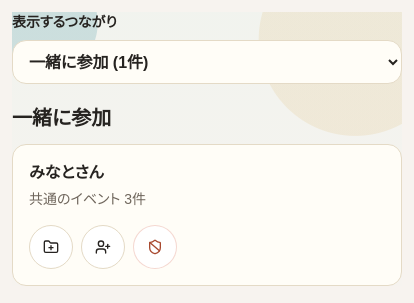
Test case: ConnectionList › switches the mobile connection group from one dropdown
The width and height of the screenshot is (414, 303).
Select "フォロー中 (1件)" in the dropdown labelled "表示するつながり" at (207, 62), box [12,40,402,84]
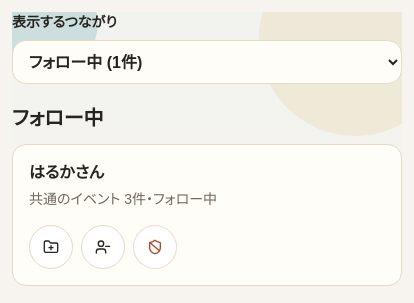
Now the text "はるかさん" is shown, box [29,164,104,181]
Now the text "みなとさん" is gone
